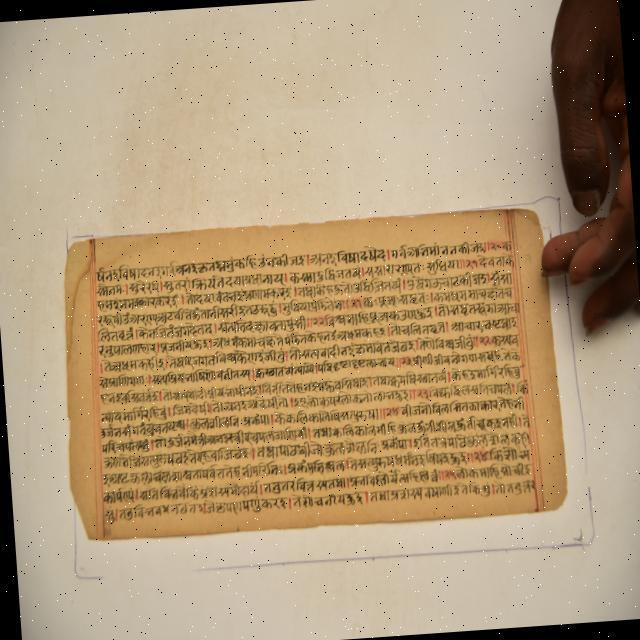text_paragraph: (66, 213, 561, 538)
